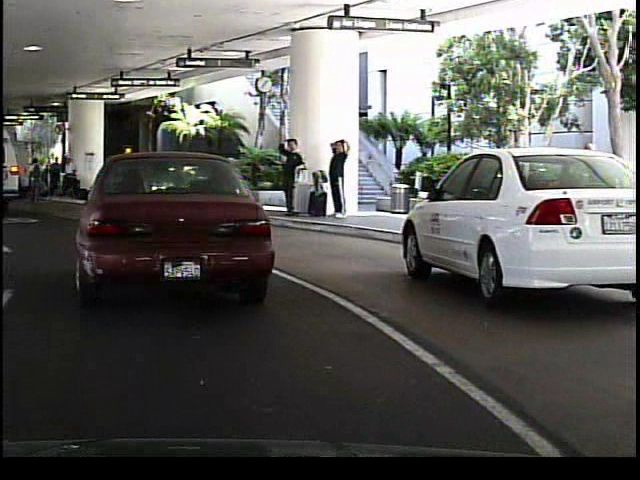person: (324, 134, 349, 220), (276, 132, 297, 216), (317, 149, 339, 215), (163, 154, 182, 196)
